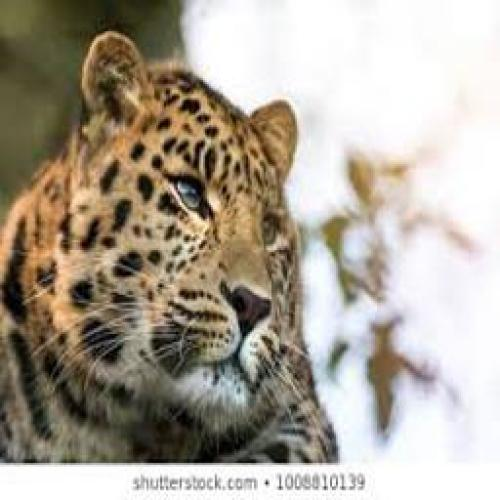amur_leopard-endangered: (0, 31, 340, 461)
